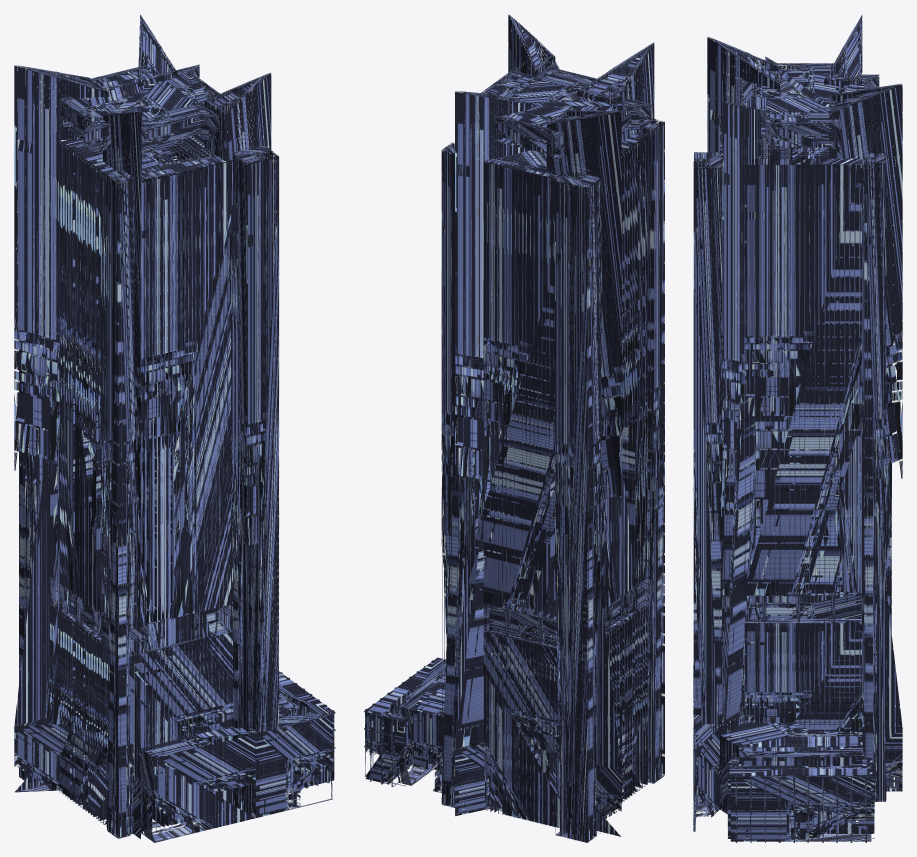
The picture shows the model from 3 angles, left to right: view 1: azimuth 30°, elevation 25°; view 2: azimuth 150°, elevation 25°; view 3: azimuth 270°, elevation 25°; orthographic projection. The views are drawn at different scales.
Parts seen in each view (by area): view 1: 1515_hipoly.obj; view 2: 1515_hipoly.obj; view 3: 1515_hipoly.obj.
Part boxes in pixels (x1,y1,x2,y2): 1515_hipoly.obj: (14,14,335,842); 1515_hipoly.obj: (364,14,664,842); 1515_hipoly.obj: (693,15,902,842).
Bounding box in the file's own units: 13.73 × 38.44 × 10.02.
Materials: 2 (1 with a texture image).
